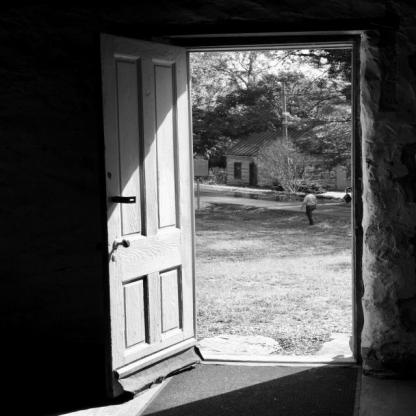door: (82, 15, 376, 400)
